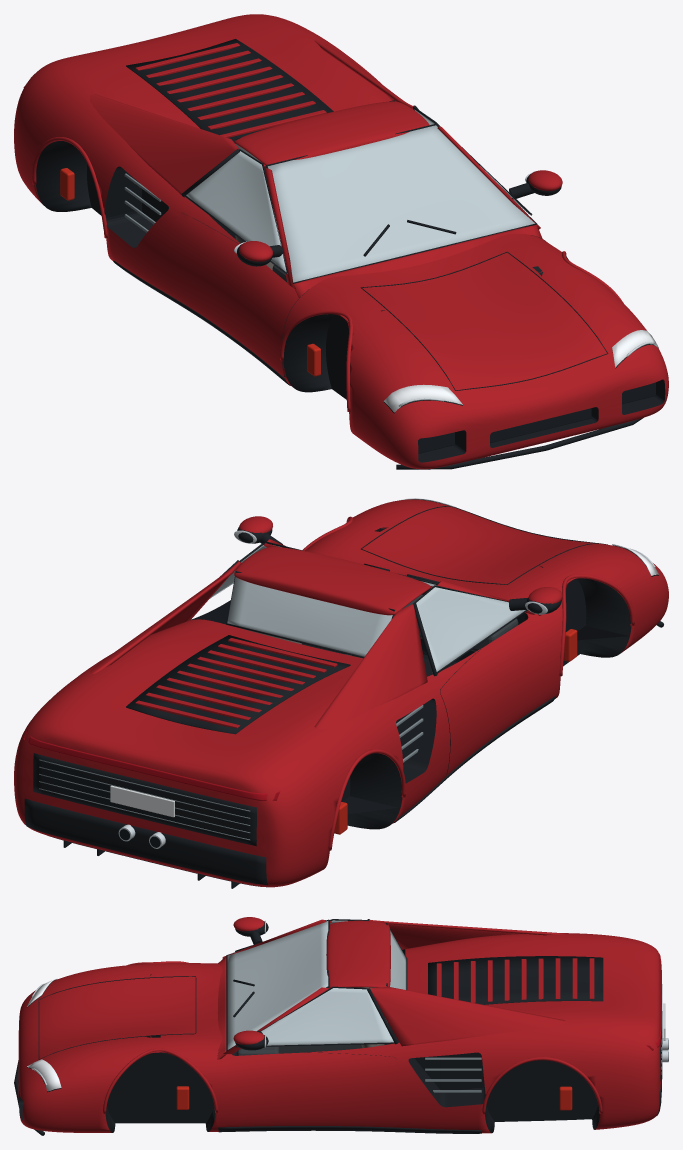
The model's file is AarisRoadGT_body.obj.
3 views of the same model, one above another, from view 1: azimuth 30°, elevation 25°; view 2: azimuth 150°, elevation 25°; view 3: azimuth 270°, elevation 25° (orthographic). The views are drawn at different scales.
Visible parts, largest first — view 1: AarisRoadGT_body; view 2: AarisRoadGT_body; view 3: AarisRoadGT_body.
Part boxes in pixels (bbox=[...]): AarisRoadGT_body: bbox=[14, 14, 668, 469]; AarisRoadGT_body: bbox=[14, 498, 668, 888]; AarisRoadGT_body: bbox=[14, 917, 668, 1135].
Size of the model in its own units: 2.09 by 1.07 by 4.63.
